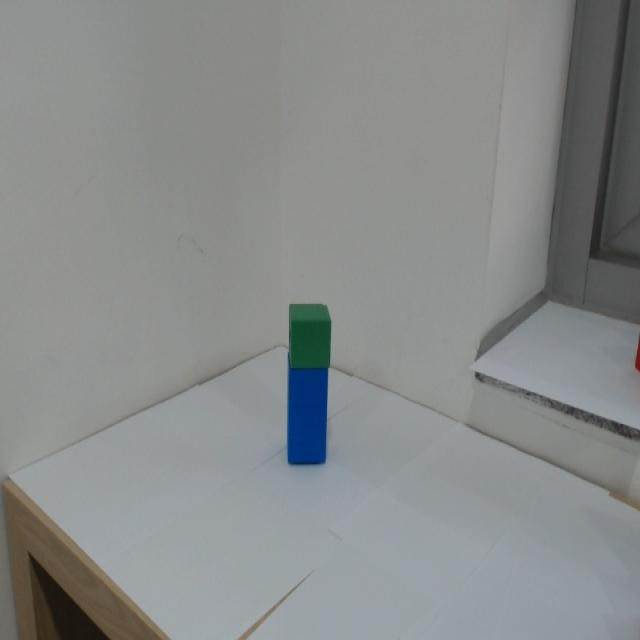cube: (286, 300, 337, 367)
